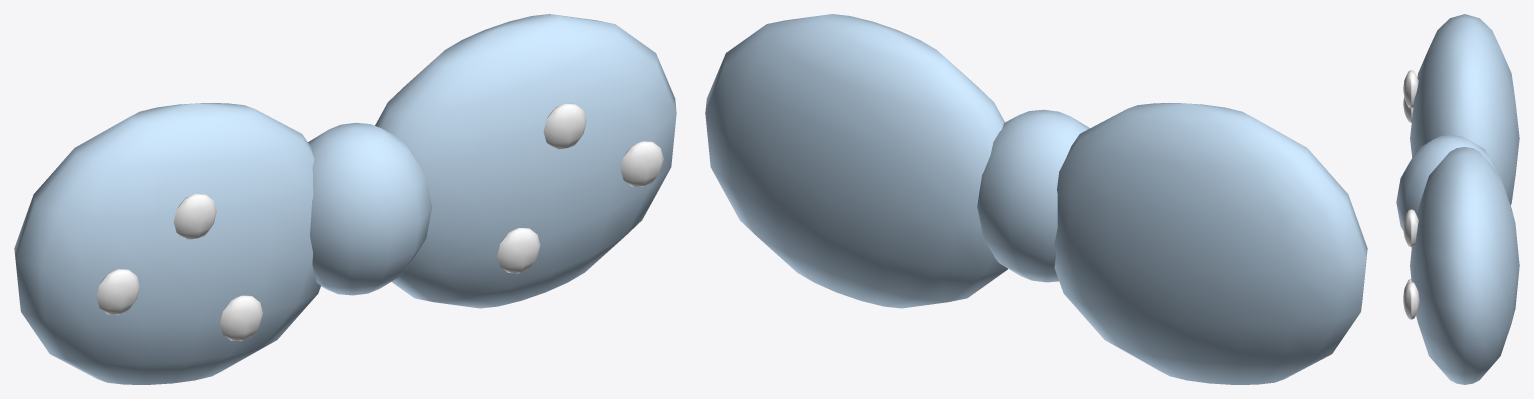
File: Acc_BowTie.fbx
3 renders of one model, left to right at view 1: azimuth 30°, elevation 25°; view 2: azimuth 150°, elevation 25°; view 3: azimuth 270°, elevation 25°, orthographic. The views are drawn at different scales.
Parts seen in each view (by area): view 1: Acc_BowTie; view 2: Acc_BowTie; view 3: Acc_BowTie.
Part boxes in pixels (<box>): Acc_BowTie: <box>14,14,676,384</box>; Acc_BowTie: <box>705,14,1367,384</box>; Acc_BowTie: <box>1396,14,1519,384</box>.
Bounding box in the file's own units: 0.0856 × 0.0337 × 0.018.
